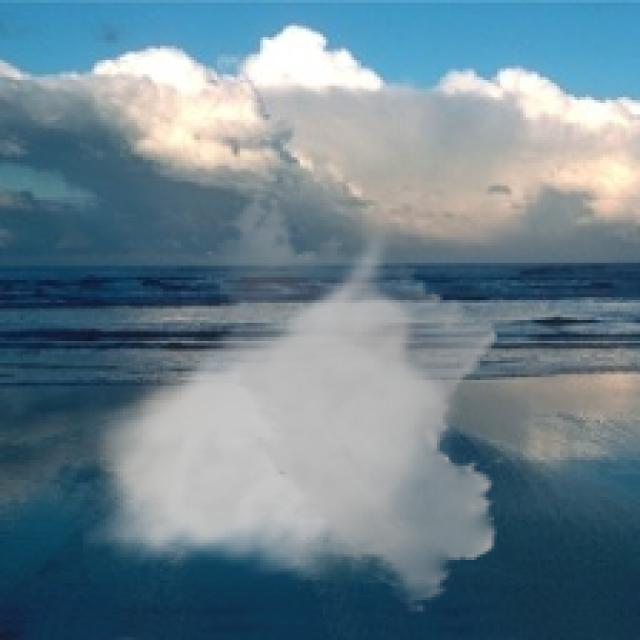smoke: (83, 189, 508, 614)
